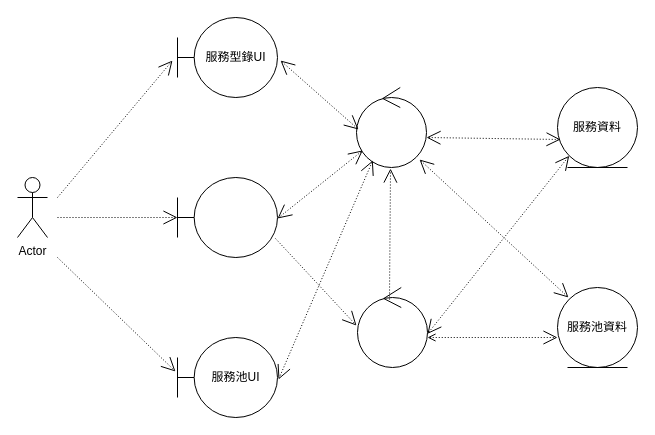
This 655x435 diagram has some shape labels left out. The shapes that lost their labels are listed below. From the top down, each one's box as (x1, y1, x2, y2) in pixels, then its label:
(356, 86, 426, 168): 顯示
(176, 176, 278, 258): 細部說明UI
(356, 286, 428, 368): 啟用
